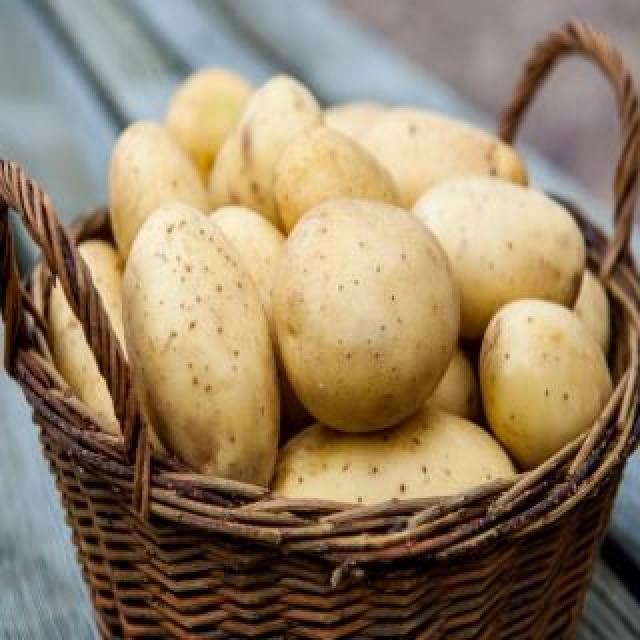Wet: (124, 188, 292, 515), (266, 166, 474, 421), (272, 402, 524, 560), (418, 140, 589, 331), (476, 282, 624, 475)
